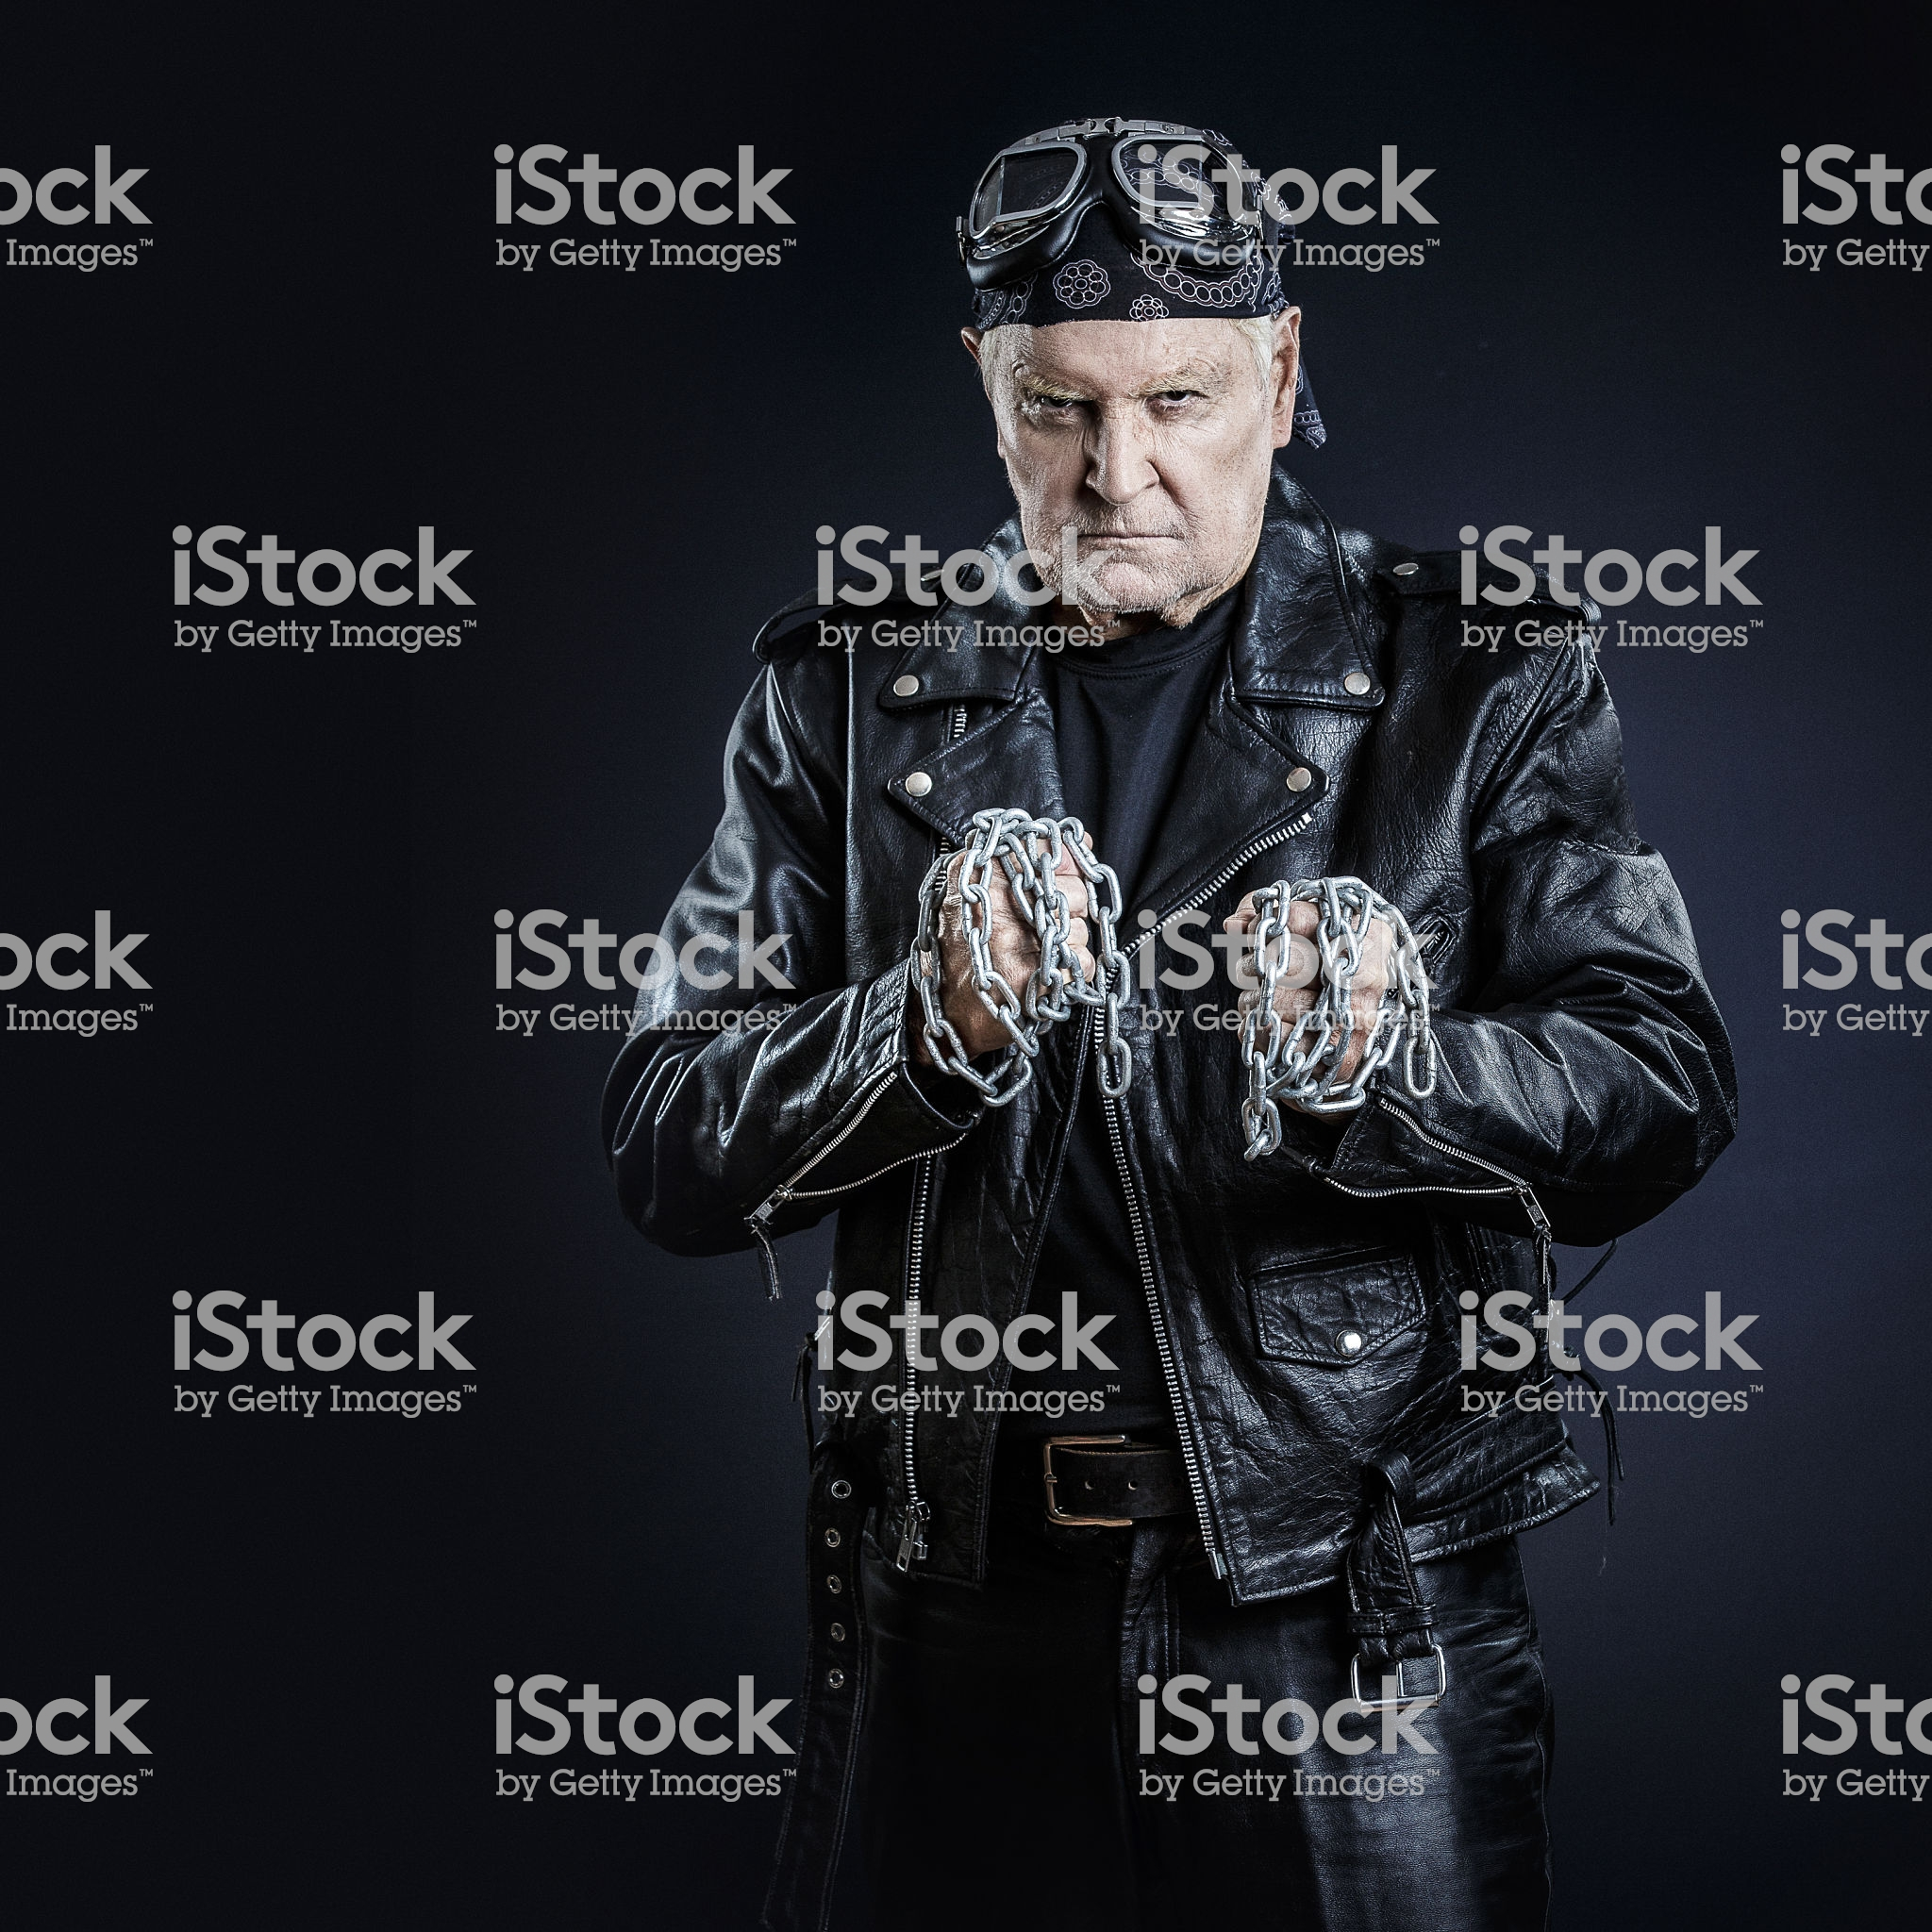helmet: (945, 104, 1299, 343)
